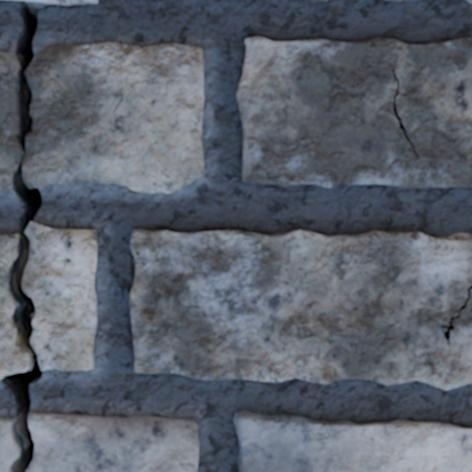brick: (130, 229, 471, 389), (237, 37, 471, 188), (234, 411, 471, 471), (33, 0, 97, 3), (310, 0, 326, 1)
broken_brick: (23, 41, 204, 193), (23, 221, 98, 371), (28, 411, 199, 471), (0, 233, 26, 377), (0, 50, 22, 192), (0, 417, 17, 471)
crack: (0, 0, 86, 471), (439, 285, 471, 347), (87, 342, 91, 370), (90, 228, 93, 244)
